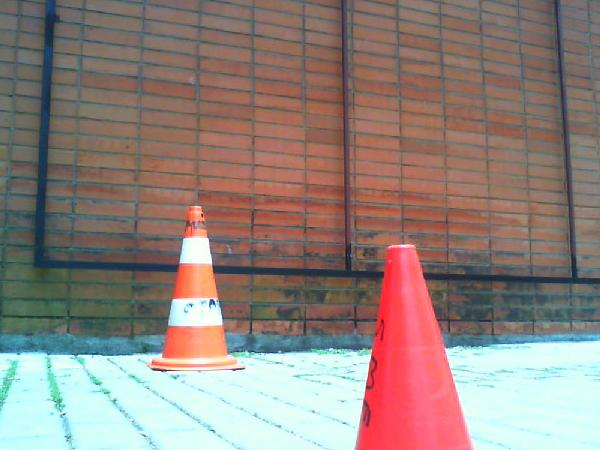0 cone: (350, 245, 482, 450), (146, 207, 246, 373)
